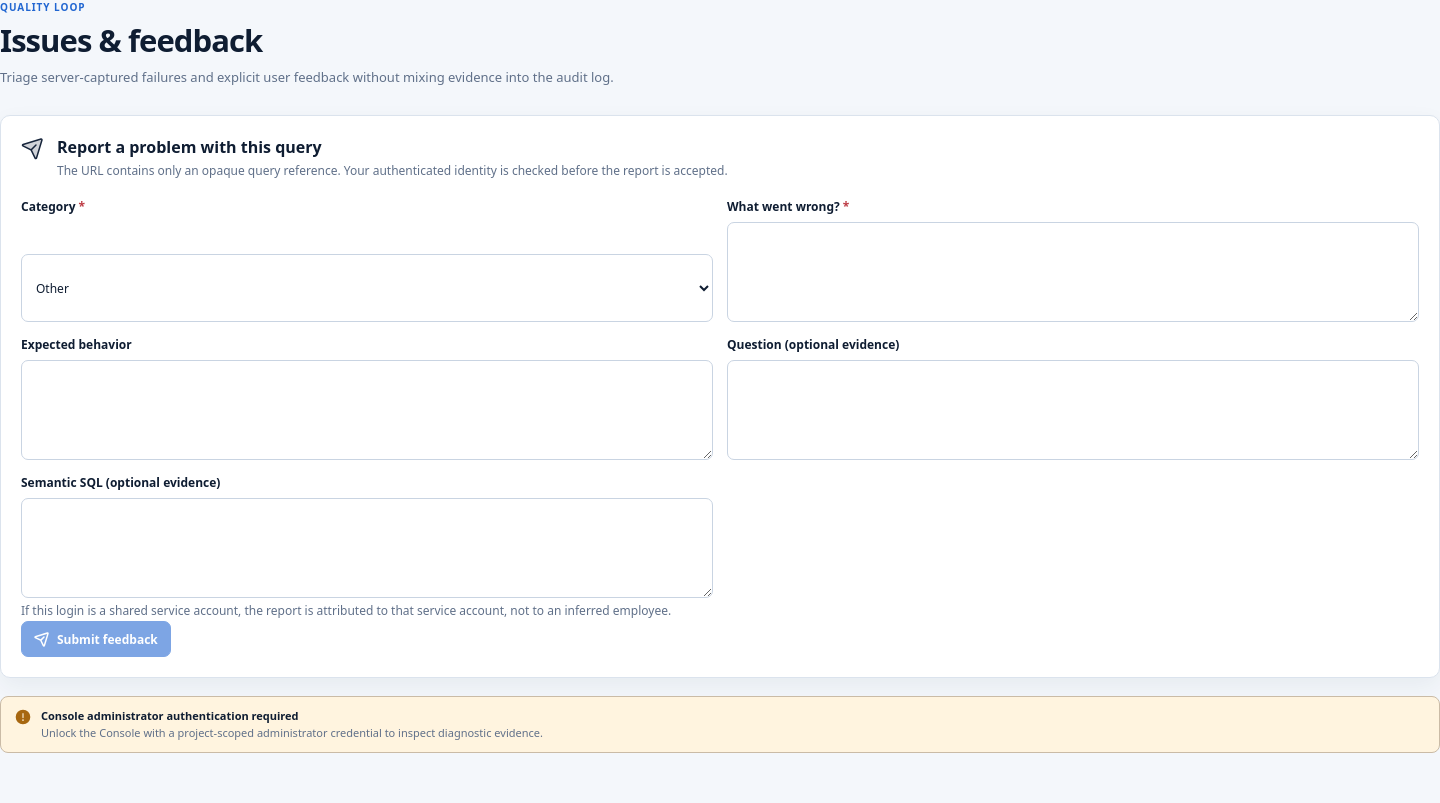
Scenario: DiagnosticsWorkbench › submits the opaque-link feedback with a retry-stable idempotency key
In the text box below "What went wrong?": (1073, 272) [727, 222, 1419, 322], type "The metric is wrong"
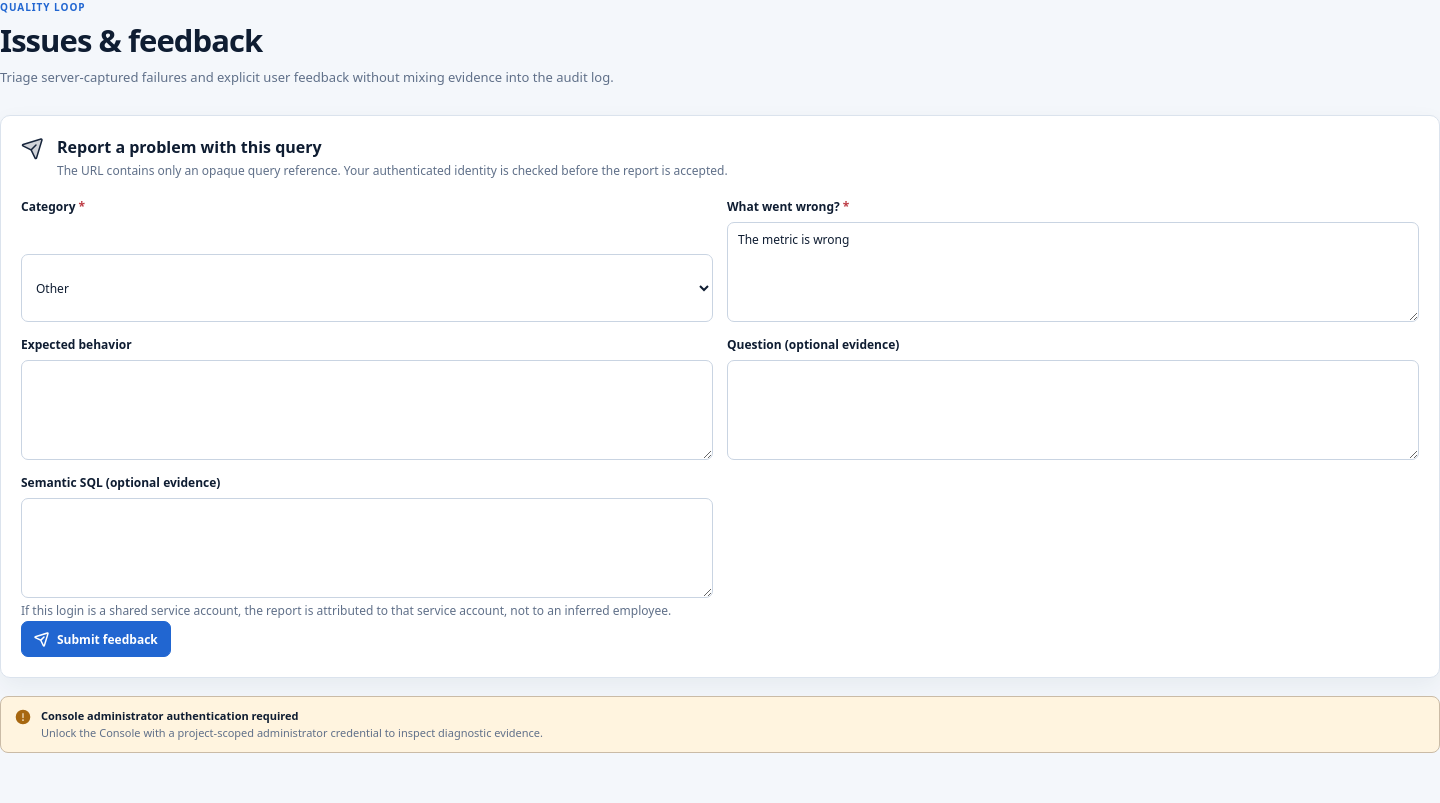
Click the button "Submit feedback": (96, 639) [21, 621, 171, 657]
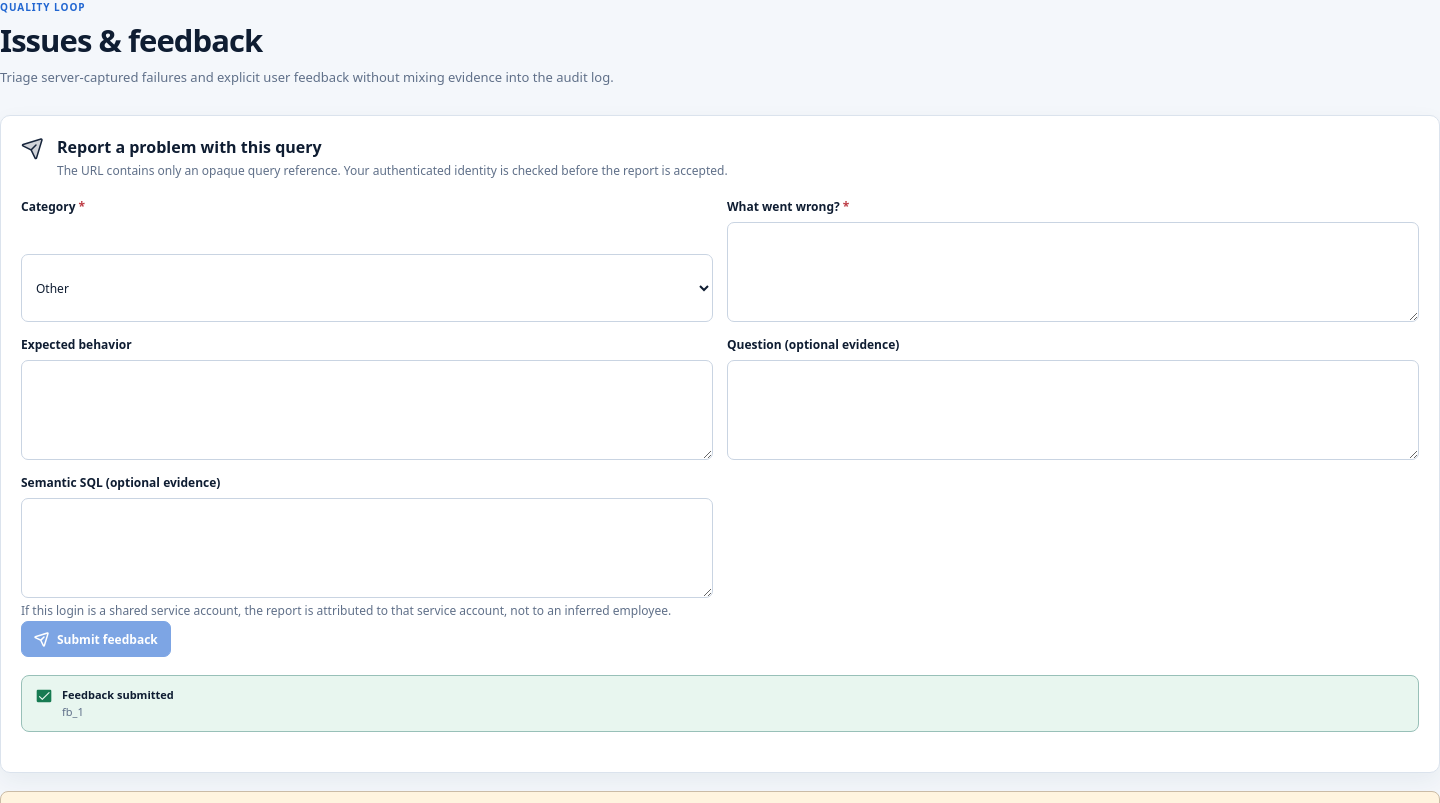
Expected: the text "shared service account" is shown, [21, 602, 671, 620]
Expected: the text "fb_1" is shown, [62, 704, 84, 719]
